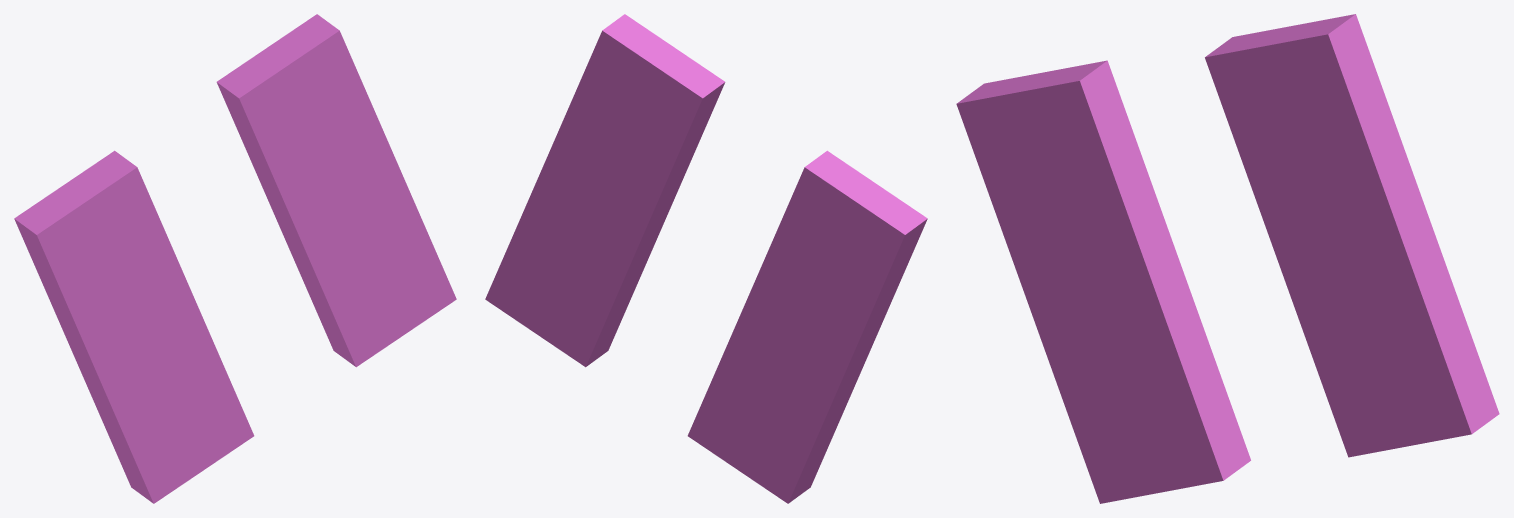
File: negative square hole wall.fbx
3 views of the same model, side by side, from view 1: azimuth 30°, elevation 25°; view 2: azimuth 150°, elevation 25°; view 3: azimuth 330°, elevation 25° (orthographic). The views are drawn at different scales.
Parts seen in each view (by area): view 1: negative square; view 2: negative square; view 3: negative square.
Boxes of the visible parts, x1,y1,x2,y2 form: negative square: (14,14,456,503); negative square: (485,14,927,503); negative square: (956,14,1499,503).
Bounding box in the file's own units: 8.2 × 7.99 × 0.7656.
